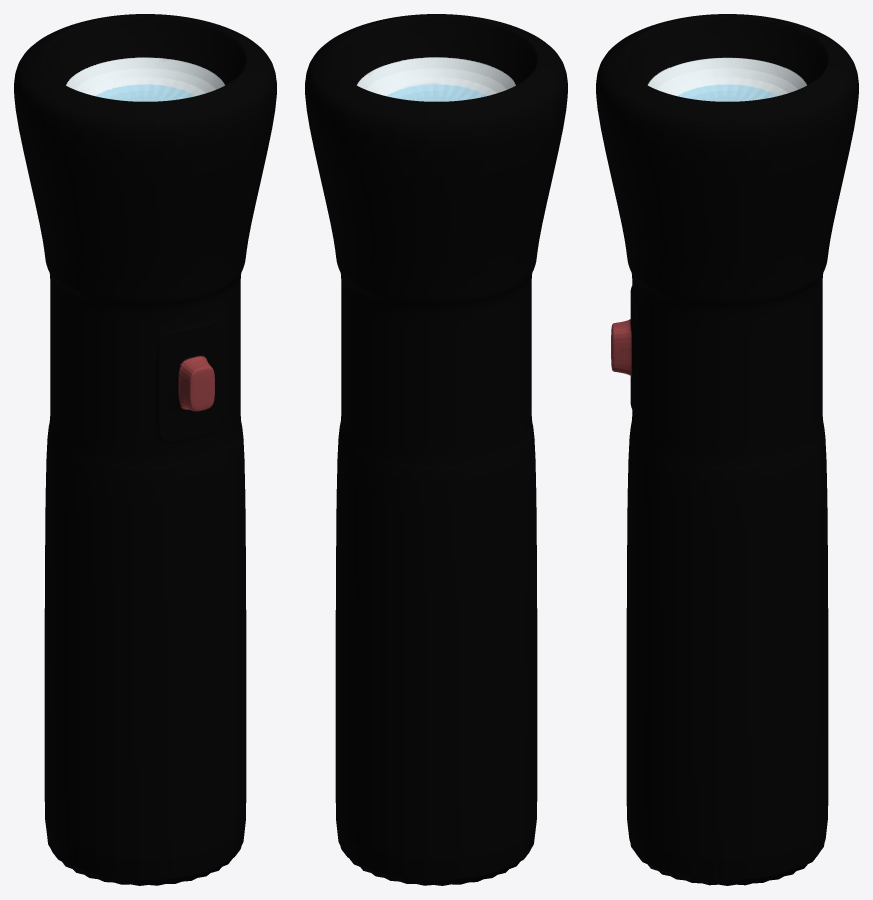
The model's file is FlashlightRemake.fbx.
The picture shows the model from 3 angles, left to right: view 1: azimuth 30°, elevation 25°; view 2: azimuth 150°, elevation 25°; view 3: azimuth 270°, elevation 25°; orthographic projection.
Parts seen in each view (by area): view 1: Cylinder; view 2: Cylinder; view 3: Cylinder.
Part boxes in pixels (<box>): Cylinder: <box>14,14,276,885</box>; Cylinder: <box>305,14,567,885</box>; Cylinder: <box>596,14,858,885</box>.
Bounding box in the file's own units: 259 × 859 × 259.
Materials: 1 (1 with a texture image).
